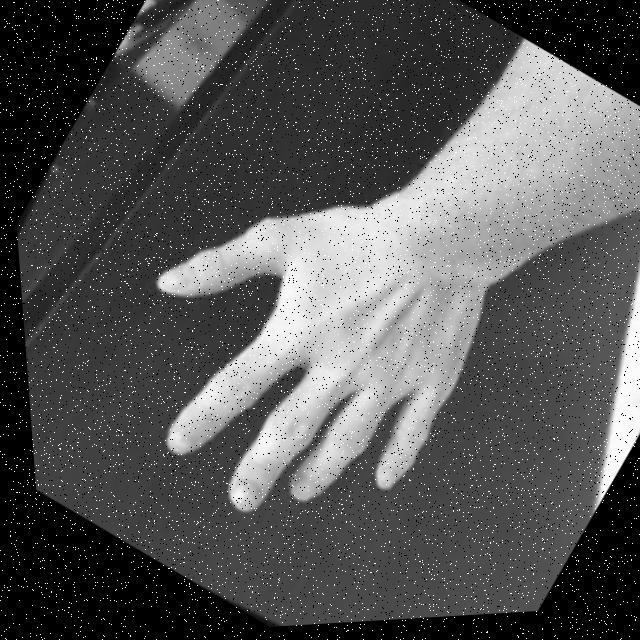no-gloves: (51, 118, 529, 594)
